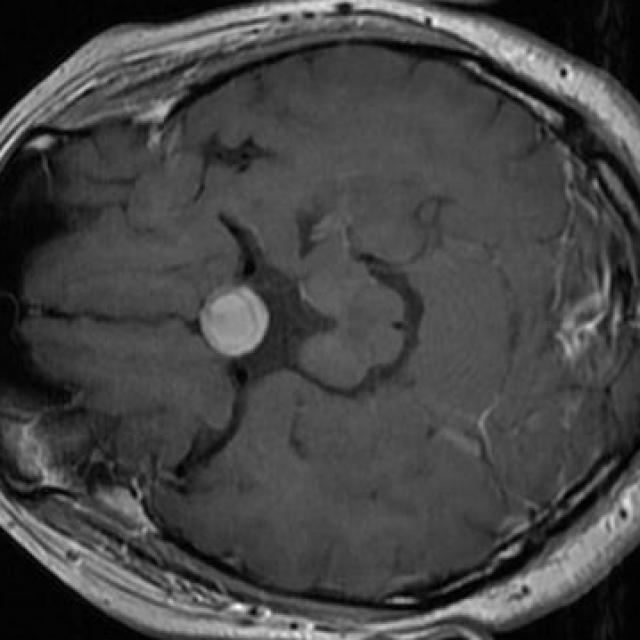pituitary: (198, 285, 273, 360)
